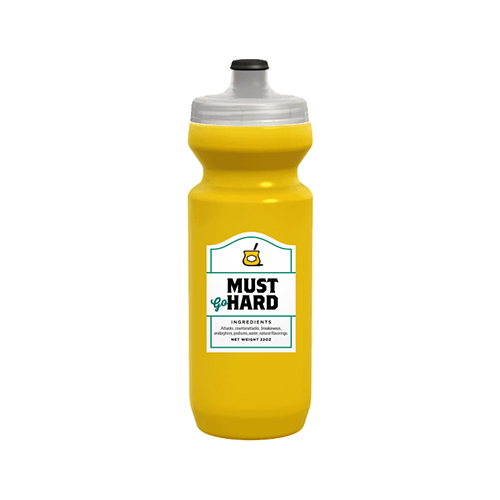Rec_Plastic: (177, 47, 325, 445)
